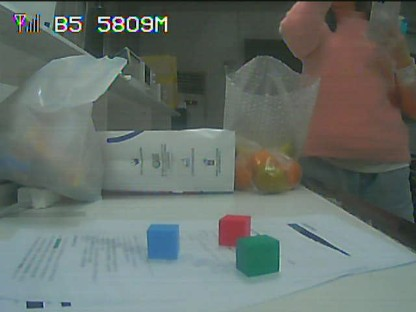b: (145, 226, 177, 258)
g: (237, 239, 279, 273)
r: (220, 215, 249, 241)
